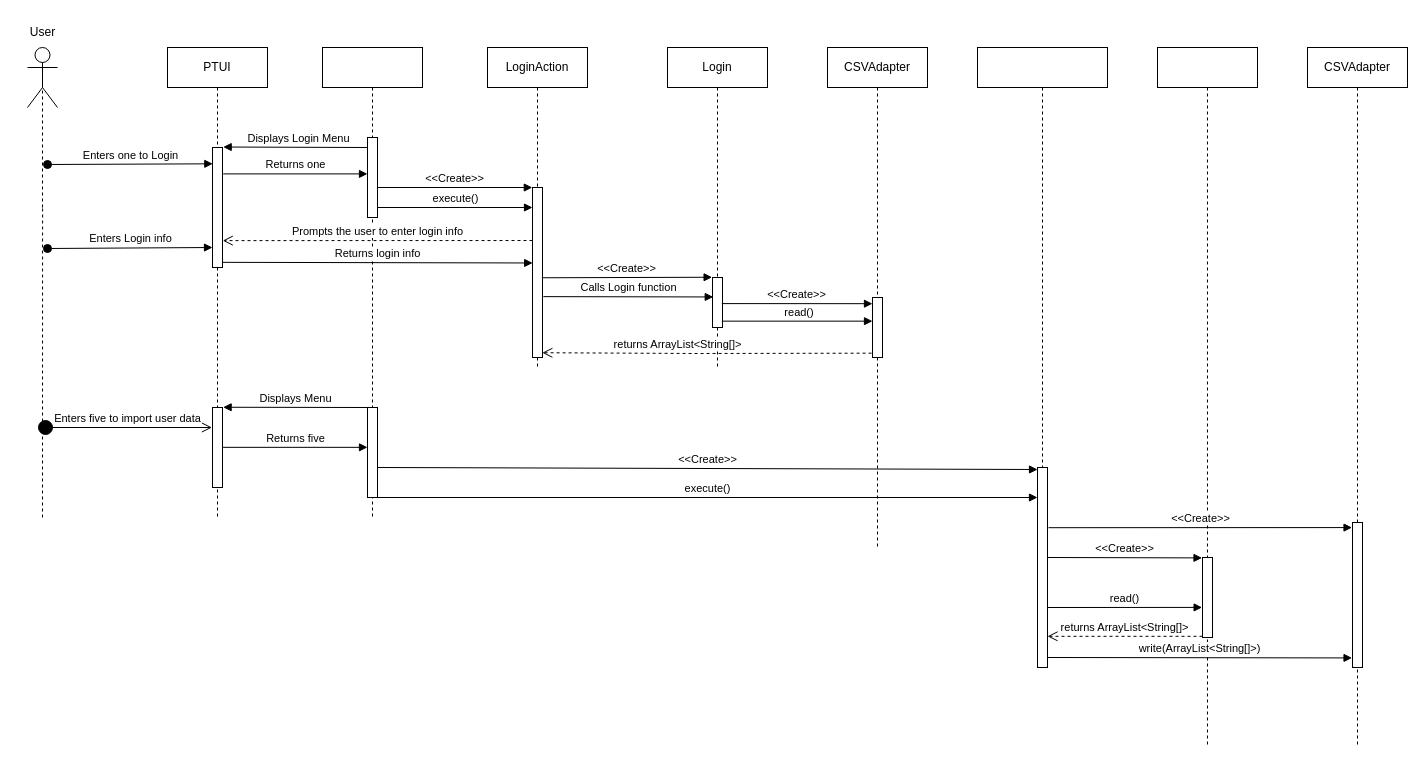
This 1425x765 diagram has some shape labels left out. The box of each missing label's shape, as (x1, y1, x2, y2) in pixels:
ImportPlayerDataAction: (976, 46, 1108, 668)
Menu: (322, 46, 422, 518)
SQLAdapter: (1156, 46, 1258, 748)
